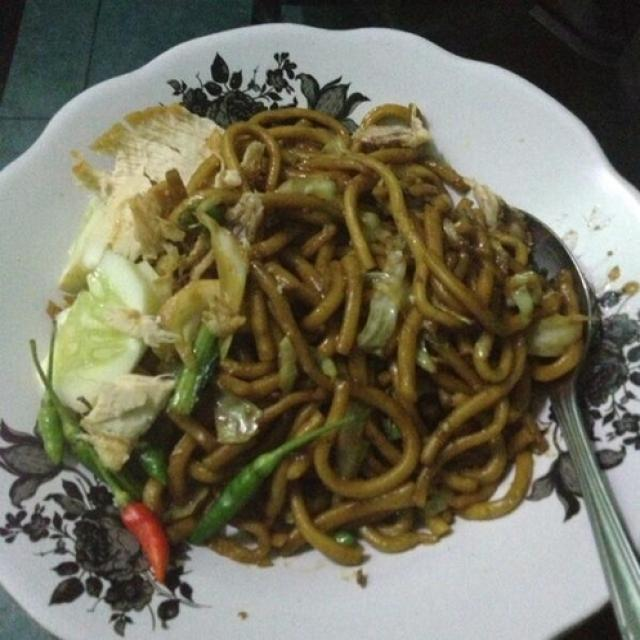面条主食: (26, 42, 612, 609)
